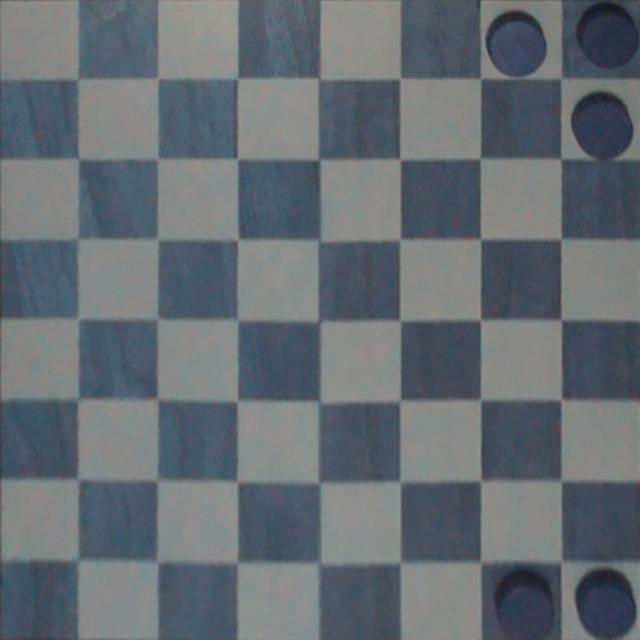BOARD: (0, 0, 640, 640)
black: (568, 88, 639, 170), (568, 566, 640, 640), (486, 572, 560, 640), (486, 7, 548, 85), (574, 2, 640, 72)
